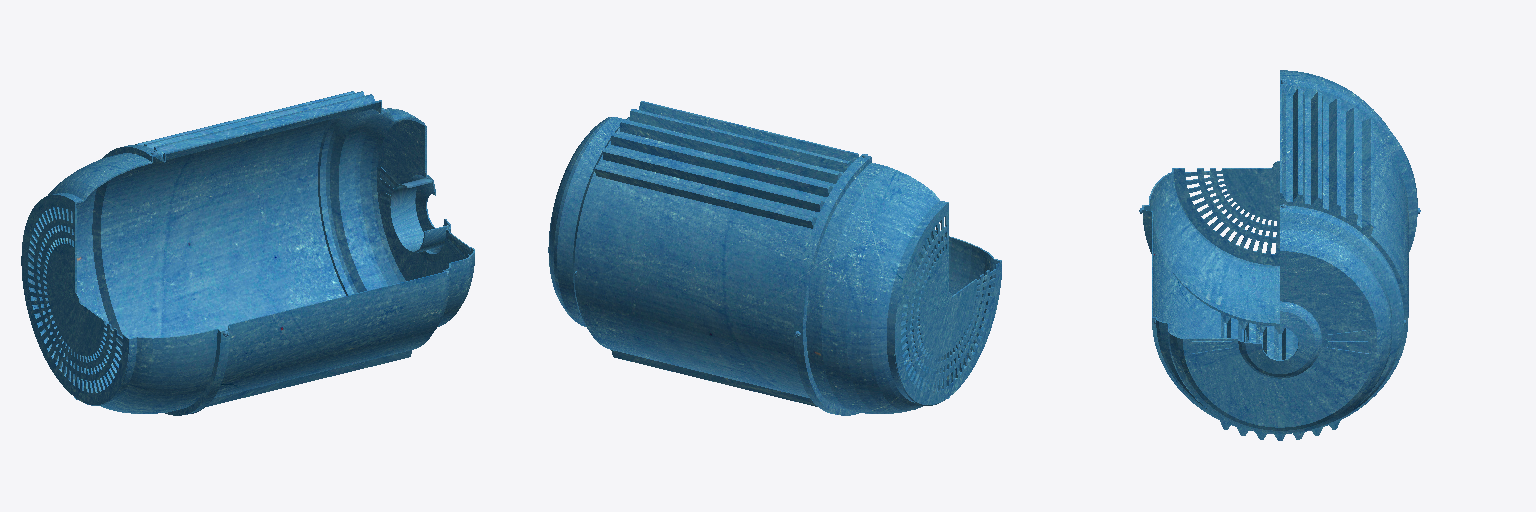
3 renders of one model, left to right at view 1: azimuth 30°, elevation 25°; view 2: azimuth 150°, elevation 25°; view 3: azimuth 270°, elevation 25°, orthographic.
Visible parts, largest first — view 1: Cylinder.032_Cylinder.030; view 2: Cylinder.032_Cylinder.030; view 3: Cylinder.032_Cylinder.030.
Boxes of the visible parts, x1,y1,x2,y2 form: Cylinder.032_Cylinder.030: [21, 91, 474, 415]; Cylinder.032_Cylinder.030: [548, 101, 1001, 415]; Cylinder.032_Cylinder.030: [1139, 70, 1420, 440].
Bounding box in the file's own units: 0.1917 × 0.1291 × 0.1291.
Materials: 1 (1 with a texture image).